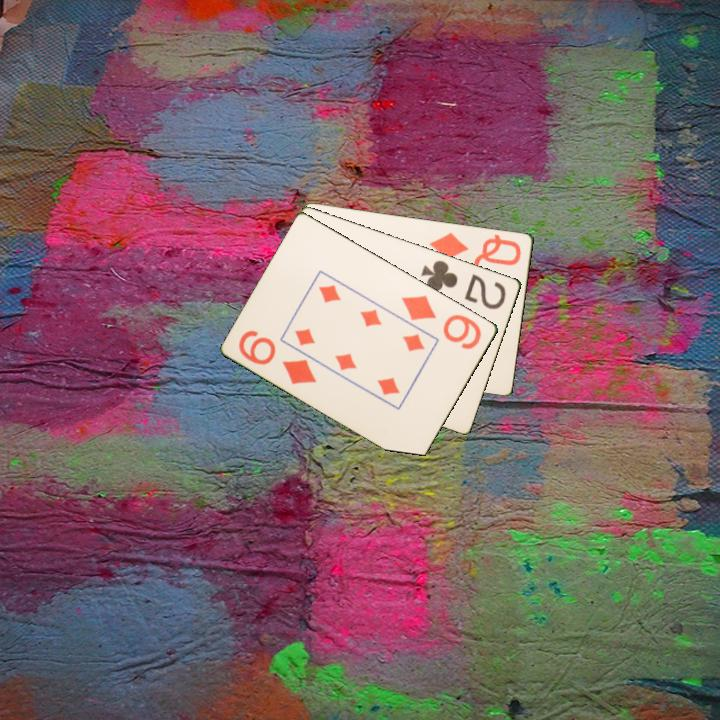2c: (418, 256, 509, 312)
6d: (398, 291, 485, 352), (235, 326, 320, 387)
Qd: (426, 228, 524, 268)
